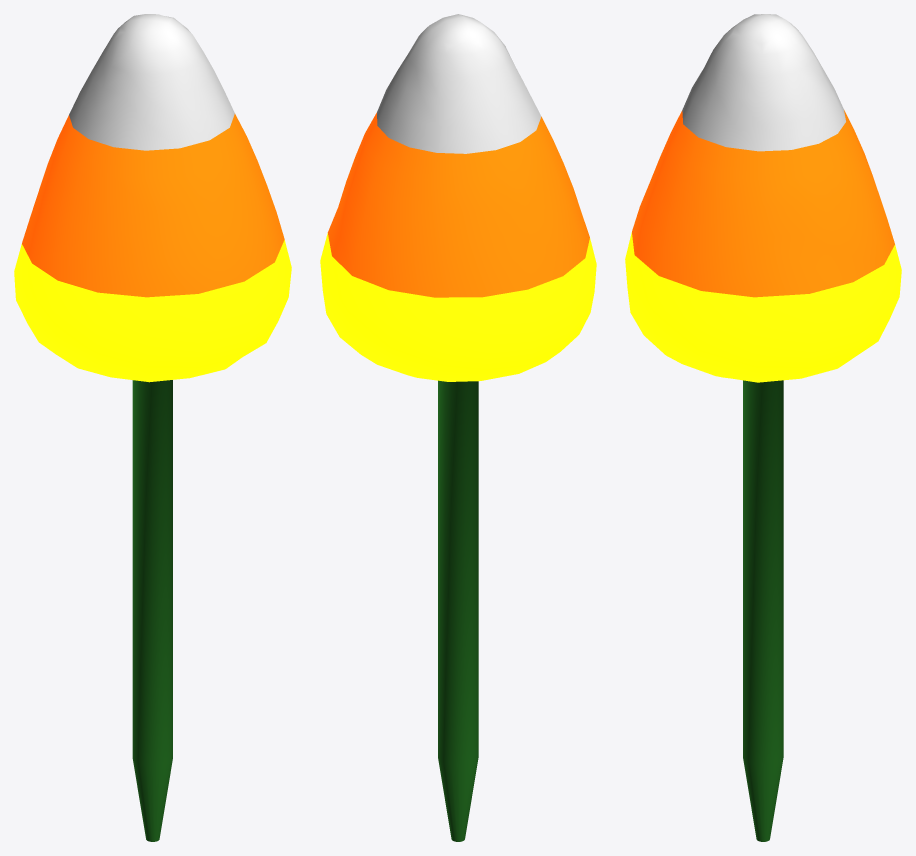
File: YardLight.fbx
The picture shows the model from 3 angles, left to right: view 1: azimuth 30°, elevation 25°; view 2: azimuth 150°, elevation 25°; view 3: azimuth 270°, elevation 25°; orthographic projection.
Visible parts, largest first — view 1: CandyCornLight; view 2: CandyCornLight; view 3: CandyCornLight.
Part boxes in pixels (box(x1,y1,x2,y2)): CandyCornLight: box(14, 14, 291, 841); CandyCornLight: box(320, 14, 596, 841); CandyCornLight: box(625, 14, 901, 841).
Bounding box in the file's own units: 4.14 × 4.13 × 13.52.
